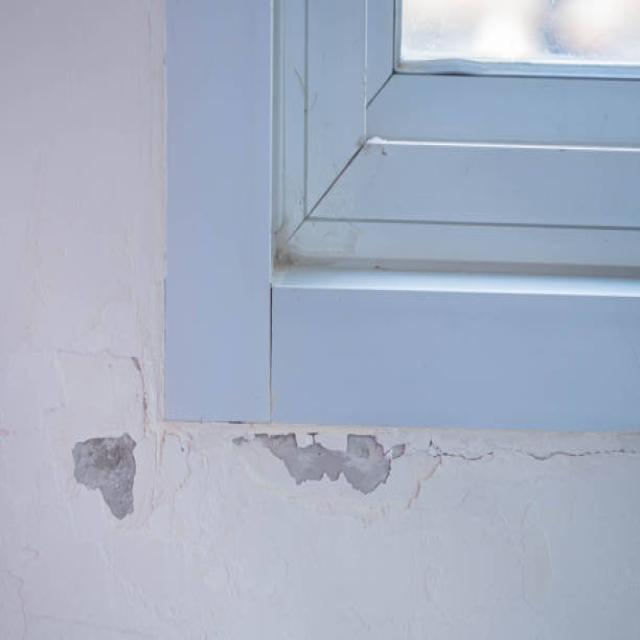Crack: (421, 435, 639, 462)
